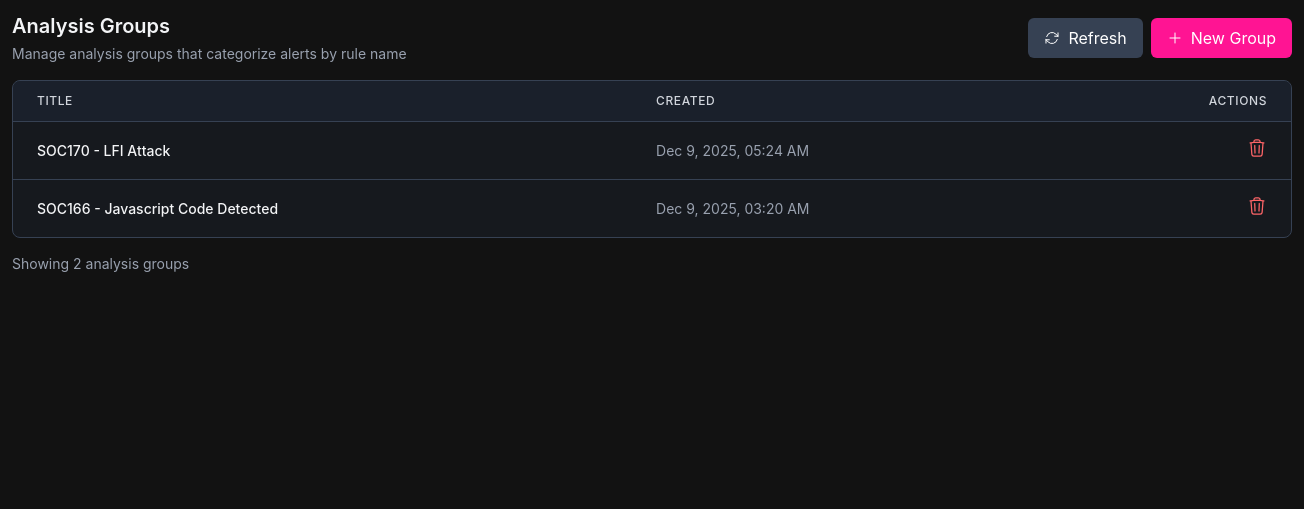
AnalysisGroups › shows create form when New Group button is clicked
This screenshot has width=1304, height=509.
Expected: the text "SOC170 - LFI Attack" is shown, [37,142,170,158]
Click the button "New Group" at (1221, 38), box [1151,18,1292,58]
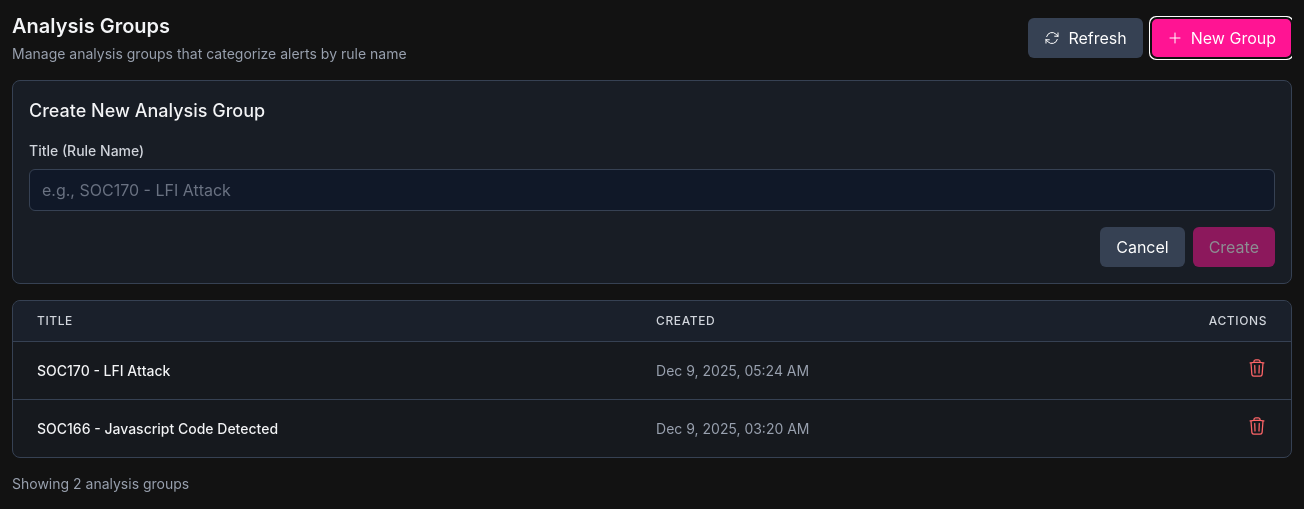
Now the heading "Create New Analysis Group" is shown, box [29,100,265,121]
Now the field labelled "Title (Rule Name)" is shown, box [29,169,1275,211]
